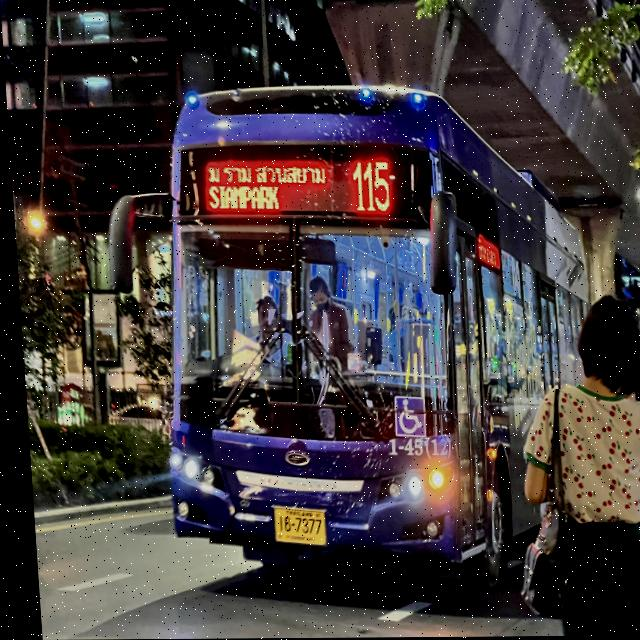Bus-Line-Number: (347, 158, 395, 215)
Destination-Sign-Normal: (197, 156, 343, 219)
TSB-Bus: (144, 70, 604, 598)
